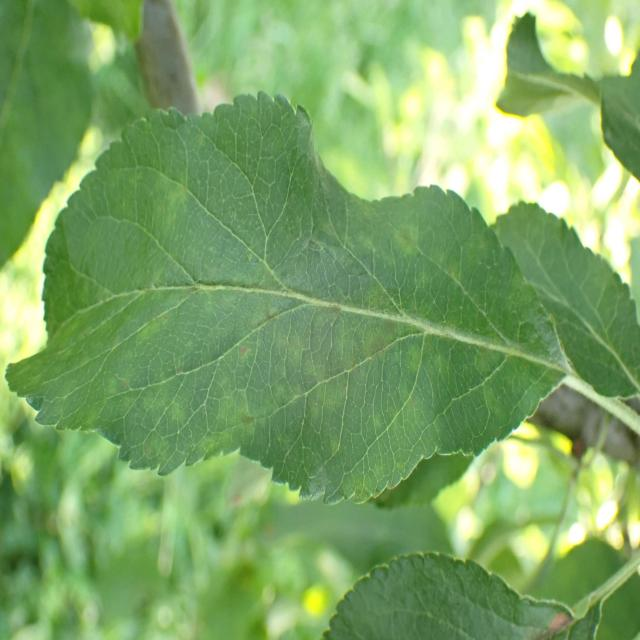scab: (79, 148, 564, 480)
